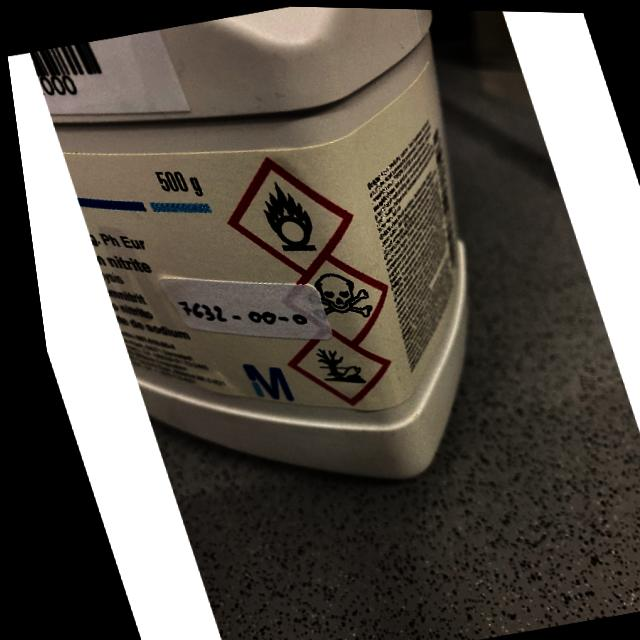acute toxicity: (291, 266, 368, 326)
hazardous to the environment: (305, 341, 357, 389)
oxidising: (250, 176, 314, 257)
